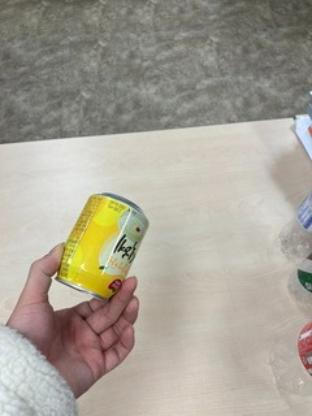Can: (54, 190, 152, 306)
